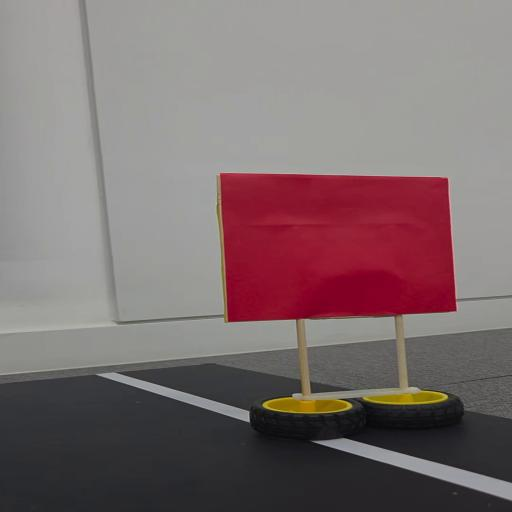Sign_A: (212, 166, 486, 453)
